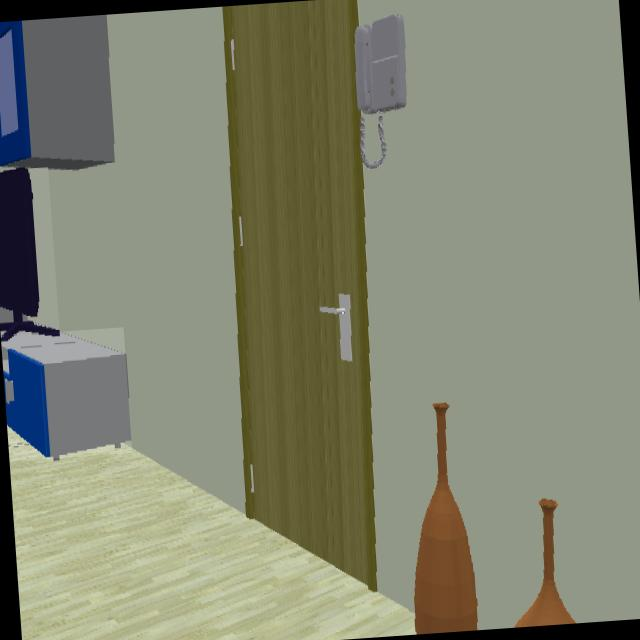cabinet: (0, 14, 114, 167), (1, 333, 131, 458)
monitor: (0, 167, 59, 341)
